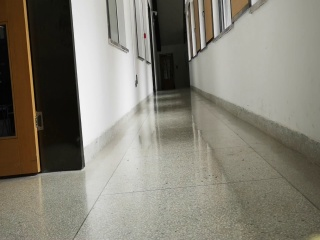room: (1, 1, 92, 180)
